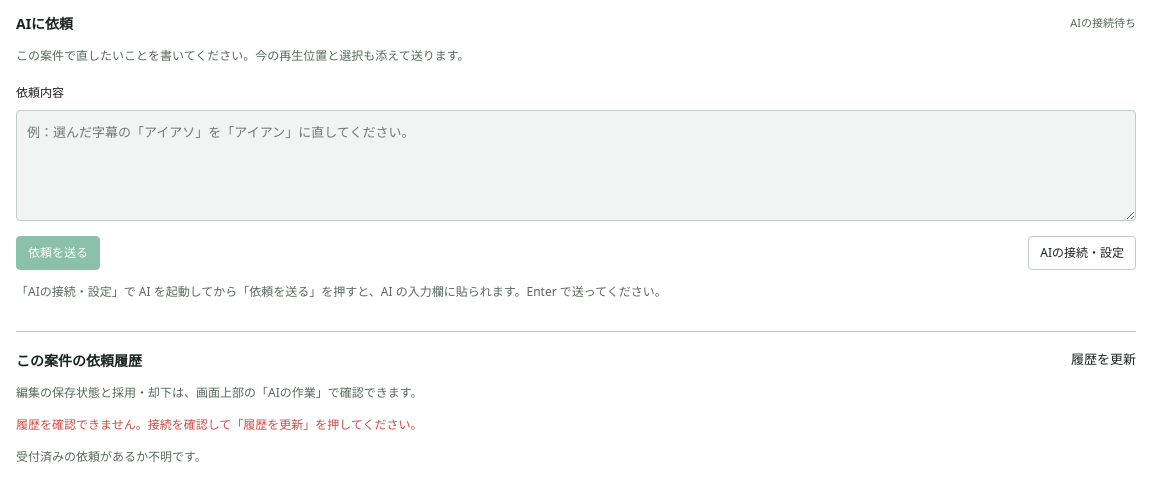
it: reports unavailable history as unknown, and recovers through a normal read
Expected: the text "受付済みの依頼があるか不明です。" is shown, [16,448,207,465]
Expected: the text "まだ依頼はありません。" is not shown
Click the button "履歴を更新" at (1104,360), box [1071,350,1136,370]
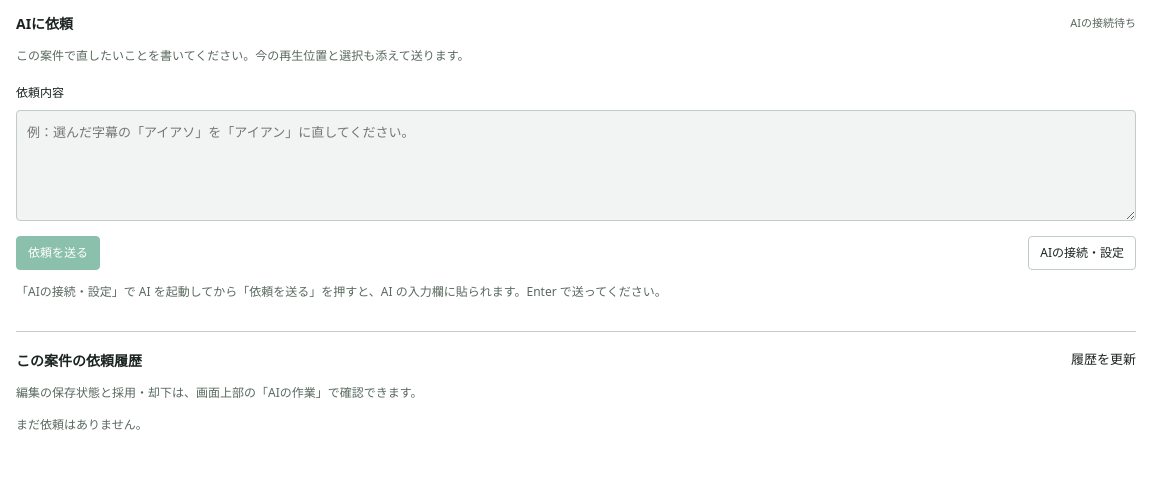
Result: the text "まだ依頼はありません。" is shown at [16,416,148,433]
